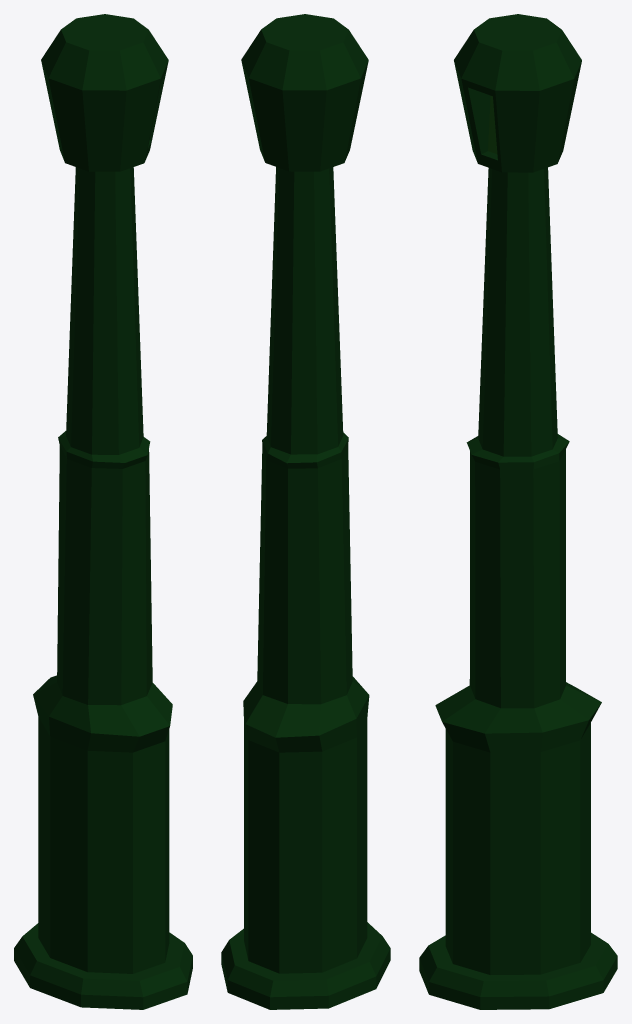
File: Lampadaire.fbx
3 views of the same model, side by side, from view 1: azimuth 30°, elevation 25°; view 2: azimuth 150°, elevation 25°; view 3: azimuth 270°, elevation 25° (orthographic).
Visible parts, largest first — view 1: Lampadaire; view 2: Lampadaire; view 3: Lampadaire.
Part boxes in pixels (bbox=[...]): Lampadaire: bbox=[14, 14, 192, 1009]; Lampadaire: bbox=[221, 14, 390, 1009]; Lampadaire: bbox=[419, 14, 617, 1009].
Bounding box in the file's own units: 216 × 1359 × 259.
